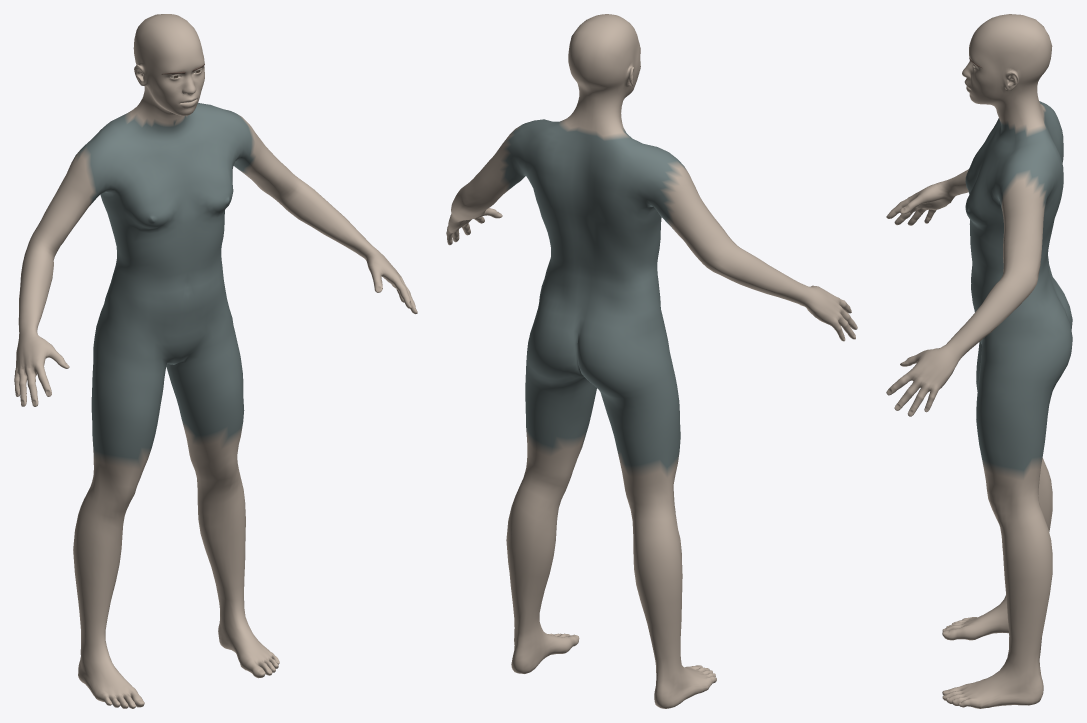
File: fitting-body.glb
3 views of the same model, side by side, from view 1: azimuth 30°, elevation 25°; view 2: azimuth 150°, elevation 25°; view 3: azimuth 270°, elevation 25° (orthographic).
Parts seen in each view (by area): view 1: Body; view 2: Body; view 3: Body.
Part boxes in pixels (x1,y1,x2,y2): Body: (14,14,417,708); Body: (446,14,857,708); Body: (886,14,1072,708).
Bounding box in the file's own units: 1.05 × 1.66 × 0.43.
